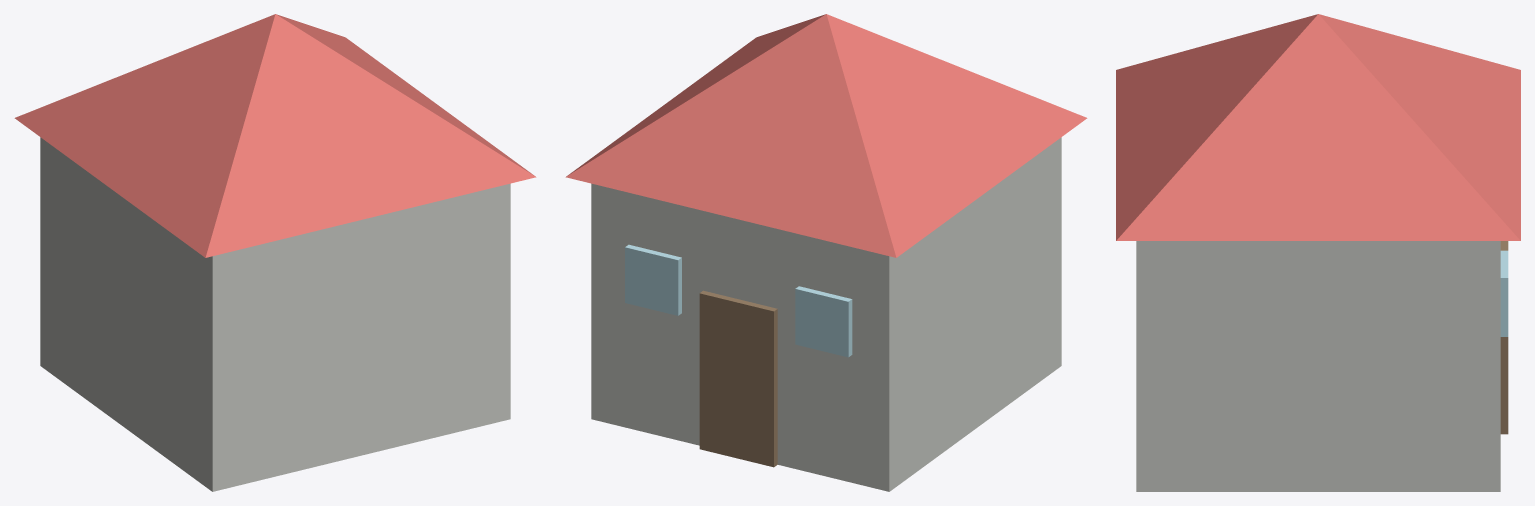
The model's file is house.glb.
The picture shows the model from 3 angles, left to right: view 1: azimuth 30°, elevation 25°; view 2: azimuth 150°, elevation 25°; view 3: azimuth 270°, elevation 25°; orthographic projection. The views are drawn at different scales.
Visible parts, largest first — view 1: walls, roof.001; view 2: walls, roof.001, door, window_-0.8, window_0.8; view 3: walls, roof.001, door, window_0.8.
Boxes of the visible parts, x1,y1,x2,y2 form: walls: (40,137,510,491); roof.001: (14,14,536,257); walls: (591,137,1061,491); roof.001: (565,14,1087,257); door: (699,290,777,467); window_-0.8: (795,286,852,357); window_0.8: (625,244,681,315); walls: (1136,241,1500,491); roof.001: (1116,14,1520,240); door: (1500,241,1508,434); window_0.8: (1500,250,1508,336).
Size of the model in its own units: 3.11 by 3.4 by 3.11.
